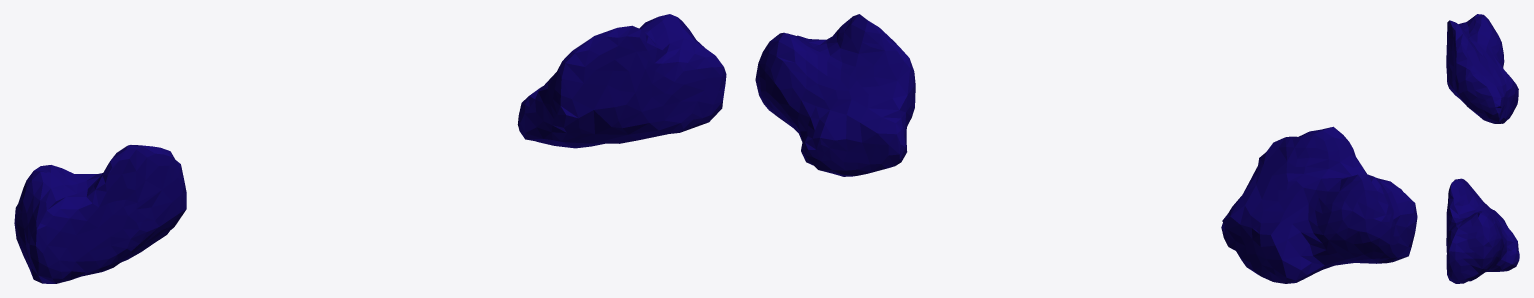
The model's file is 174-OPro-orbital proisocortex-('0.0745', '0.0000', '0.4980').obj.
3 renders of one model, left to right at view 1: azimuth 30°, elevation 25°; view 2: azimuth 150°, elevation 25°; view 3: azimuth 270°, elevation 25°, orthographic. The views are drawn at different scales.
Size of the model in its own units: 250 by 48.84 by 35.19.
